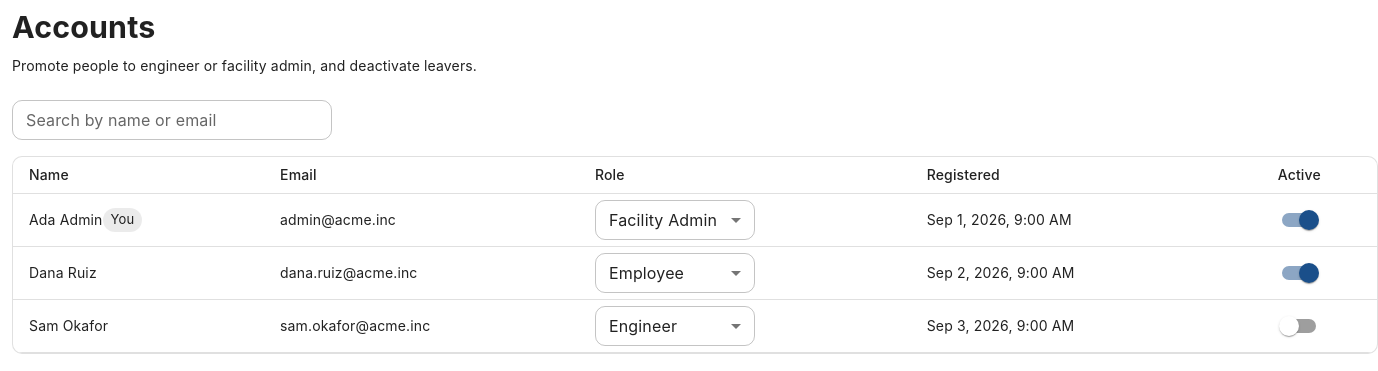
Scenario: desktop table › filters by name or email as you type
expect the text "Ada Admin" is shown: met, box [29,211,102,228]
In the field labelled "Search by name or email": (172, 120) [12,100,332,140], type "dana"
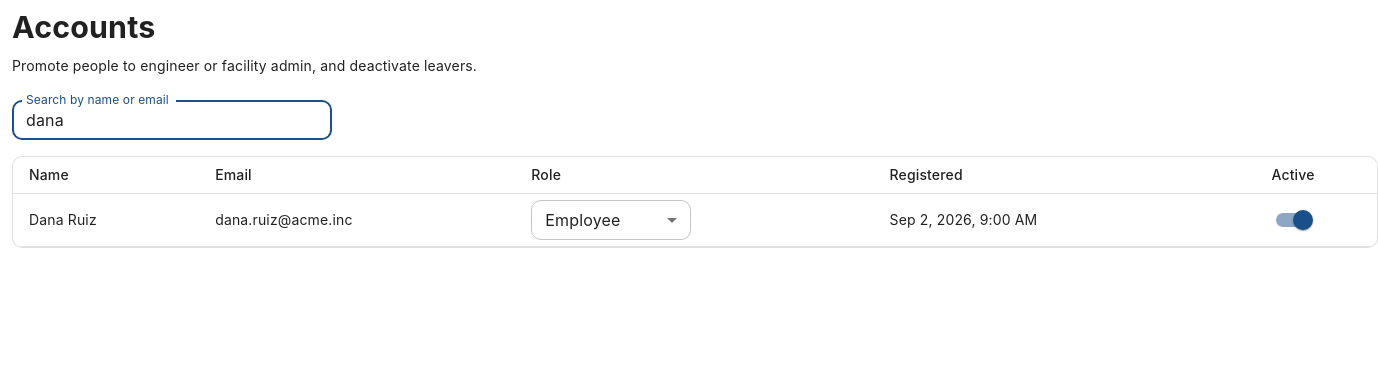
expect the text "Dana Ruiz" is shown: met, box [29,211,97,228]
expect the text "Ada Admin" is gone: met
